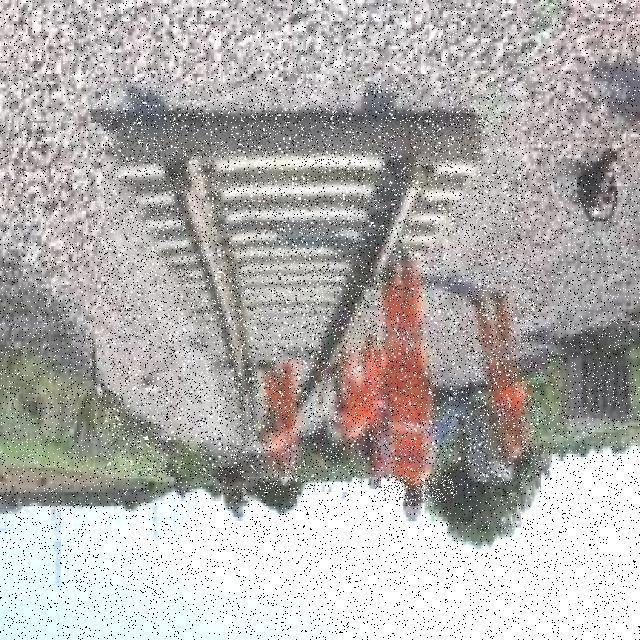danger: (374, 273, 455, 501), (469, 263, 538, 482), (255, 351, 314, 495), (334, 317, 388, 471)
rail: (105, 85, 520, 475)
